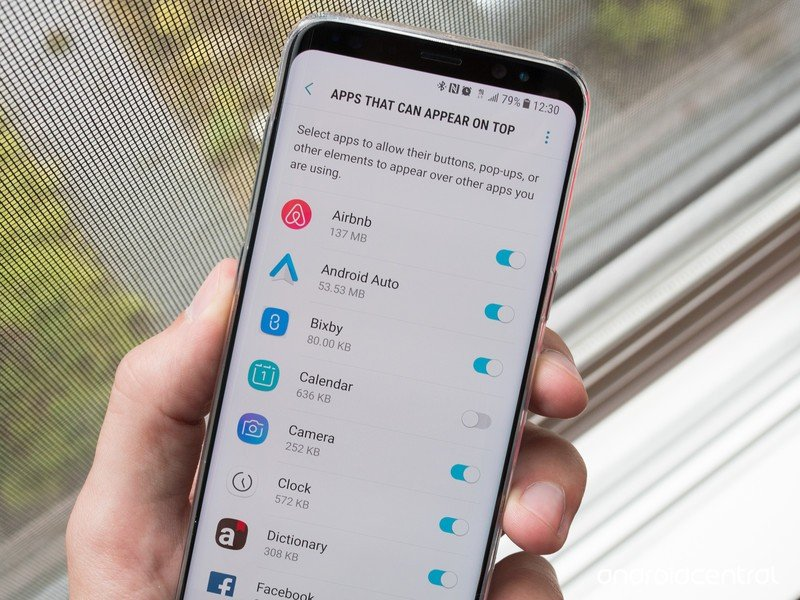Cell Phone: (210, 22, 553, 600)
